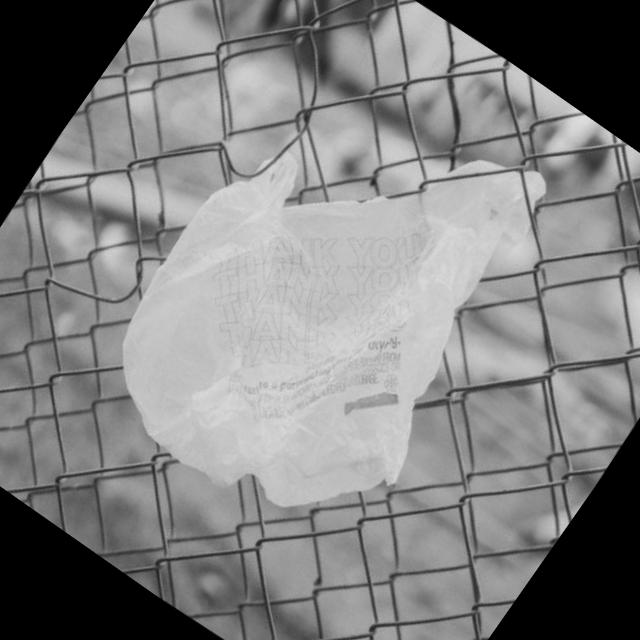KantongPlastik: (70, 21, 590, 572)
